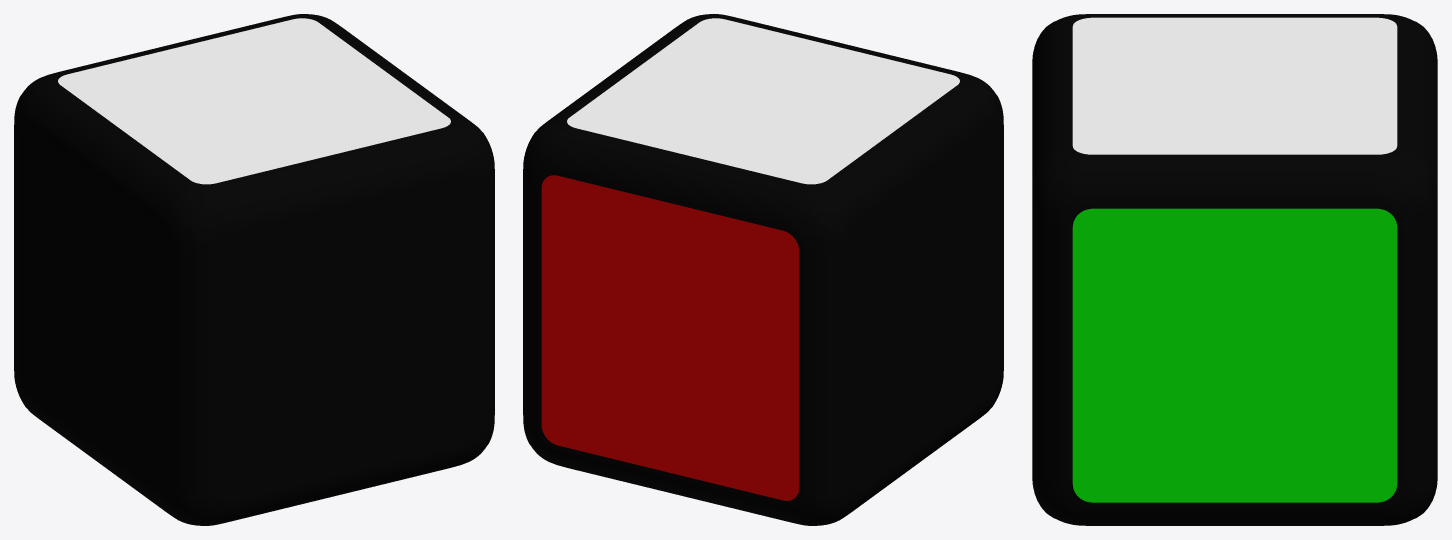
The model's file is grw.fbx.
3 renders of one model, left to right at view 1: azimuth 30°, elevation 25°; view 2: azimuth 150°, elevation 25°; view 3: azimuth 270°, elevation 25°, orthographic. The views are drawn at different scales.
Visible parts, largest first — view 1: grw; view 2: grw; view 3: grw.
Boxes of the visible parts, left/top/right/bottom form: grw: left=14, top=14, right=494, bottom=525; grw: left=523, top=14, right=1003, bottom=525; grw: left=1032, top=14, right=1437, bottom=525.
Size of the model in its own units: 100 by 100 by 100.
